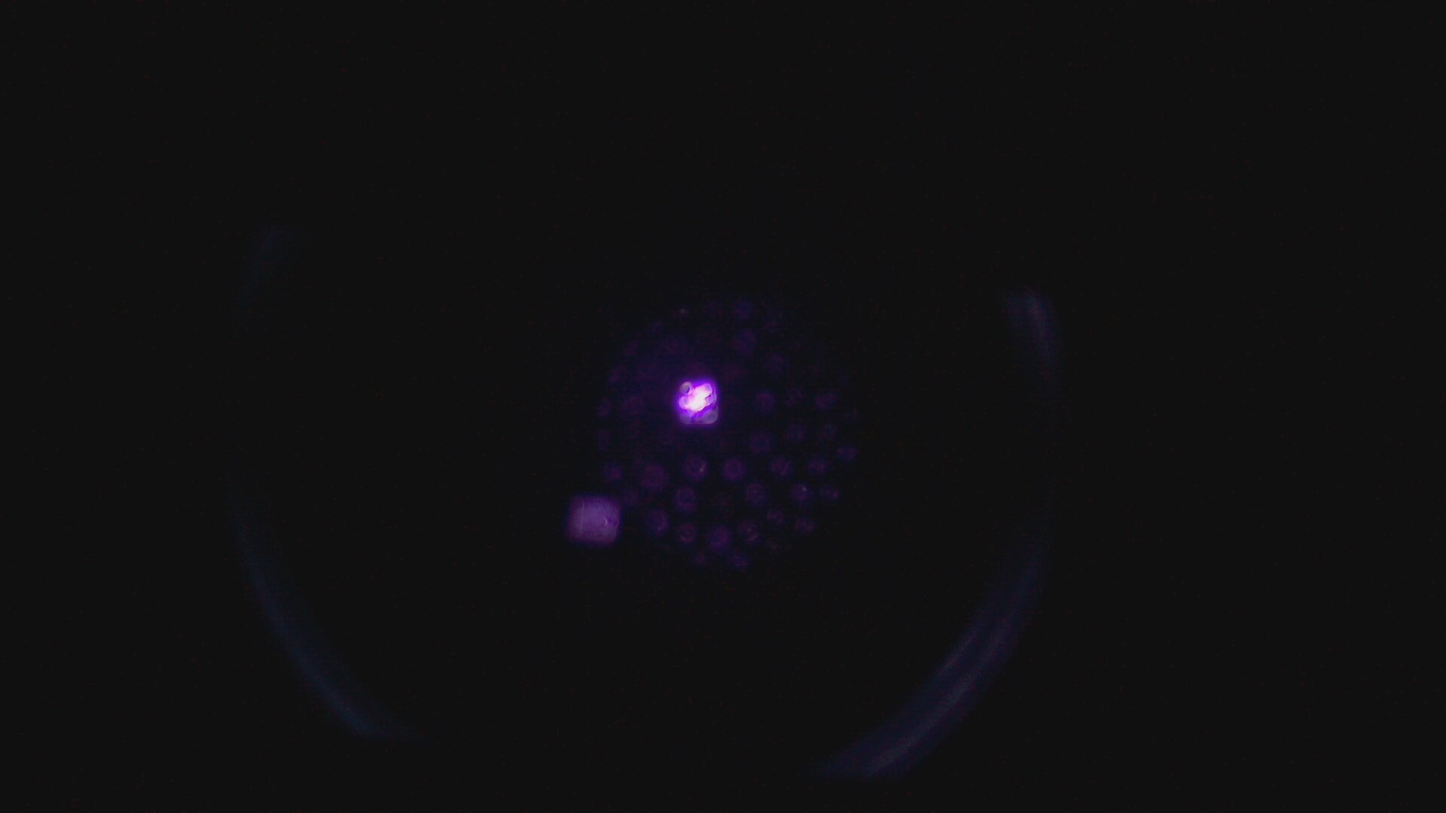plastic: (567, 494, 620, 546), (671, 376, 722, 429)
